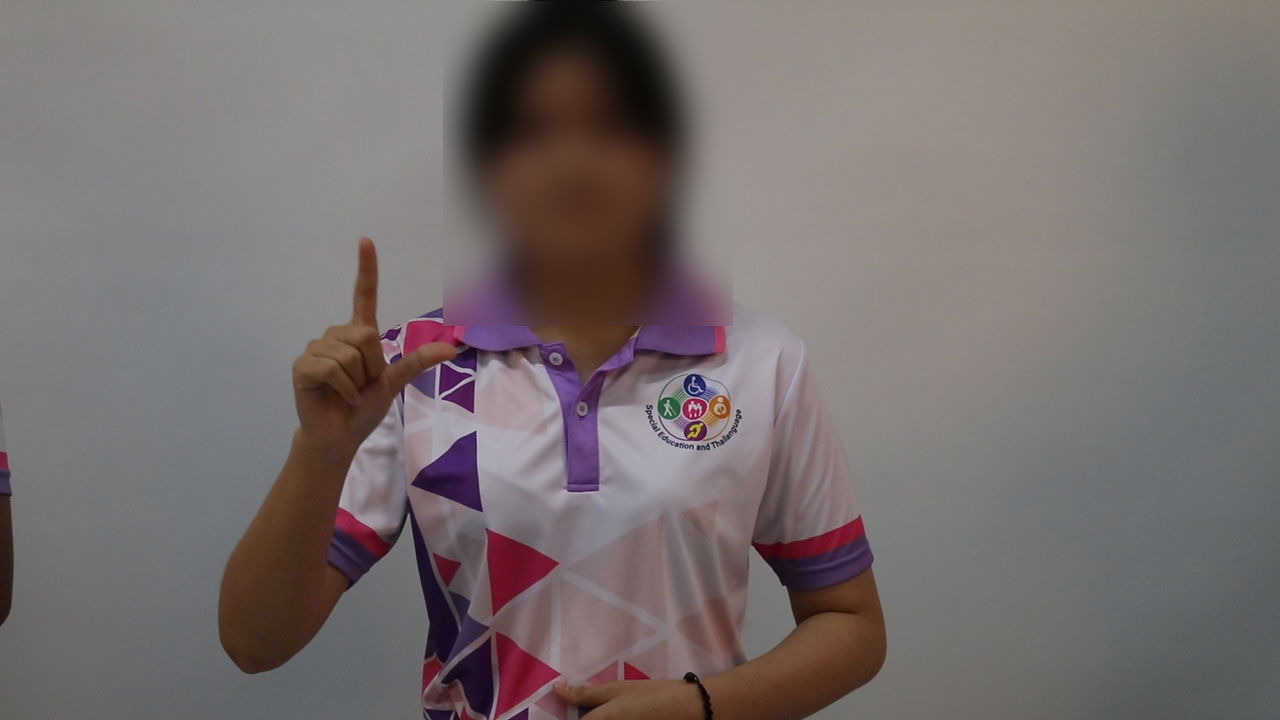lor: (280, 230, 468, 474)
